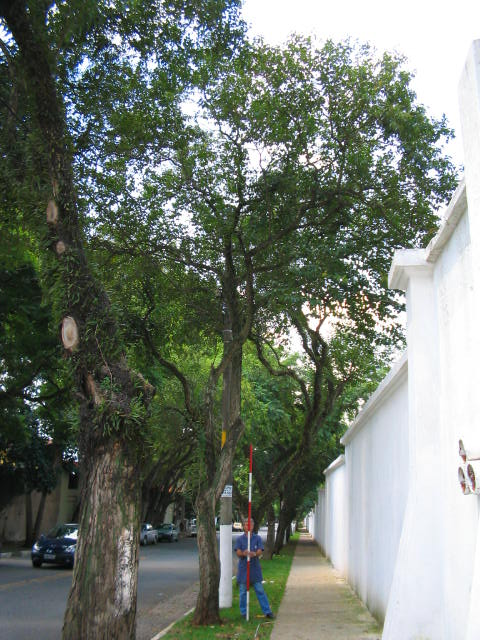crown: (73, 41, 464, 321)
stem: (6, 42, 155, 639), (181, 497, 234, 625)
stick: (239, 444, 256, 621)
tree: (69, 39, 464, 626)
